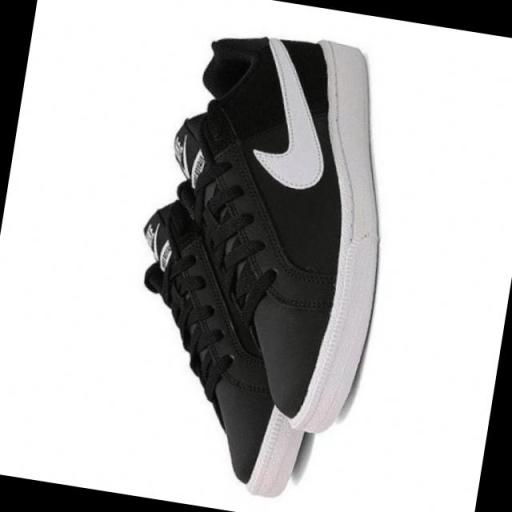Nike: (240, 34, 346, 200)
